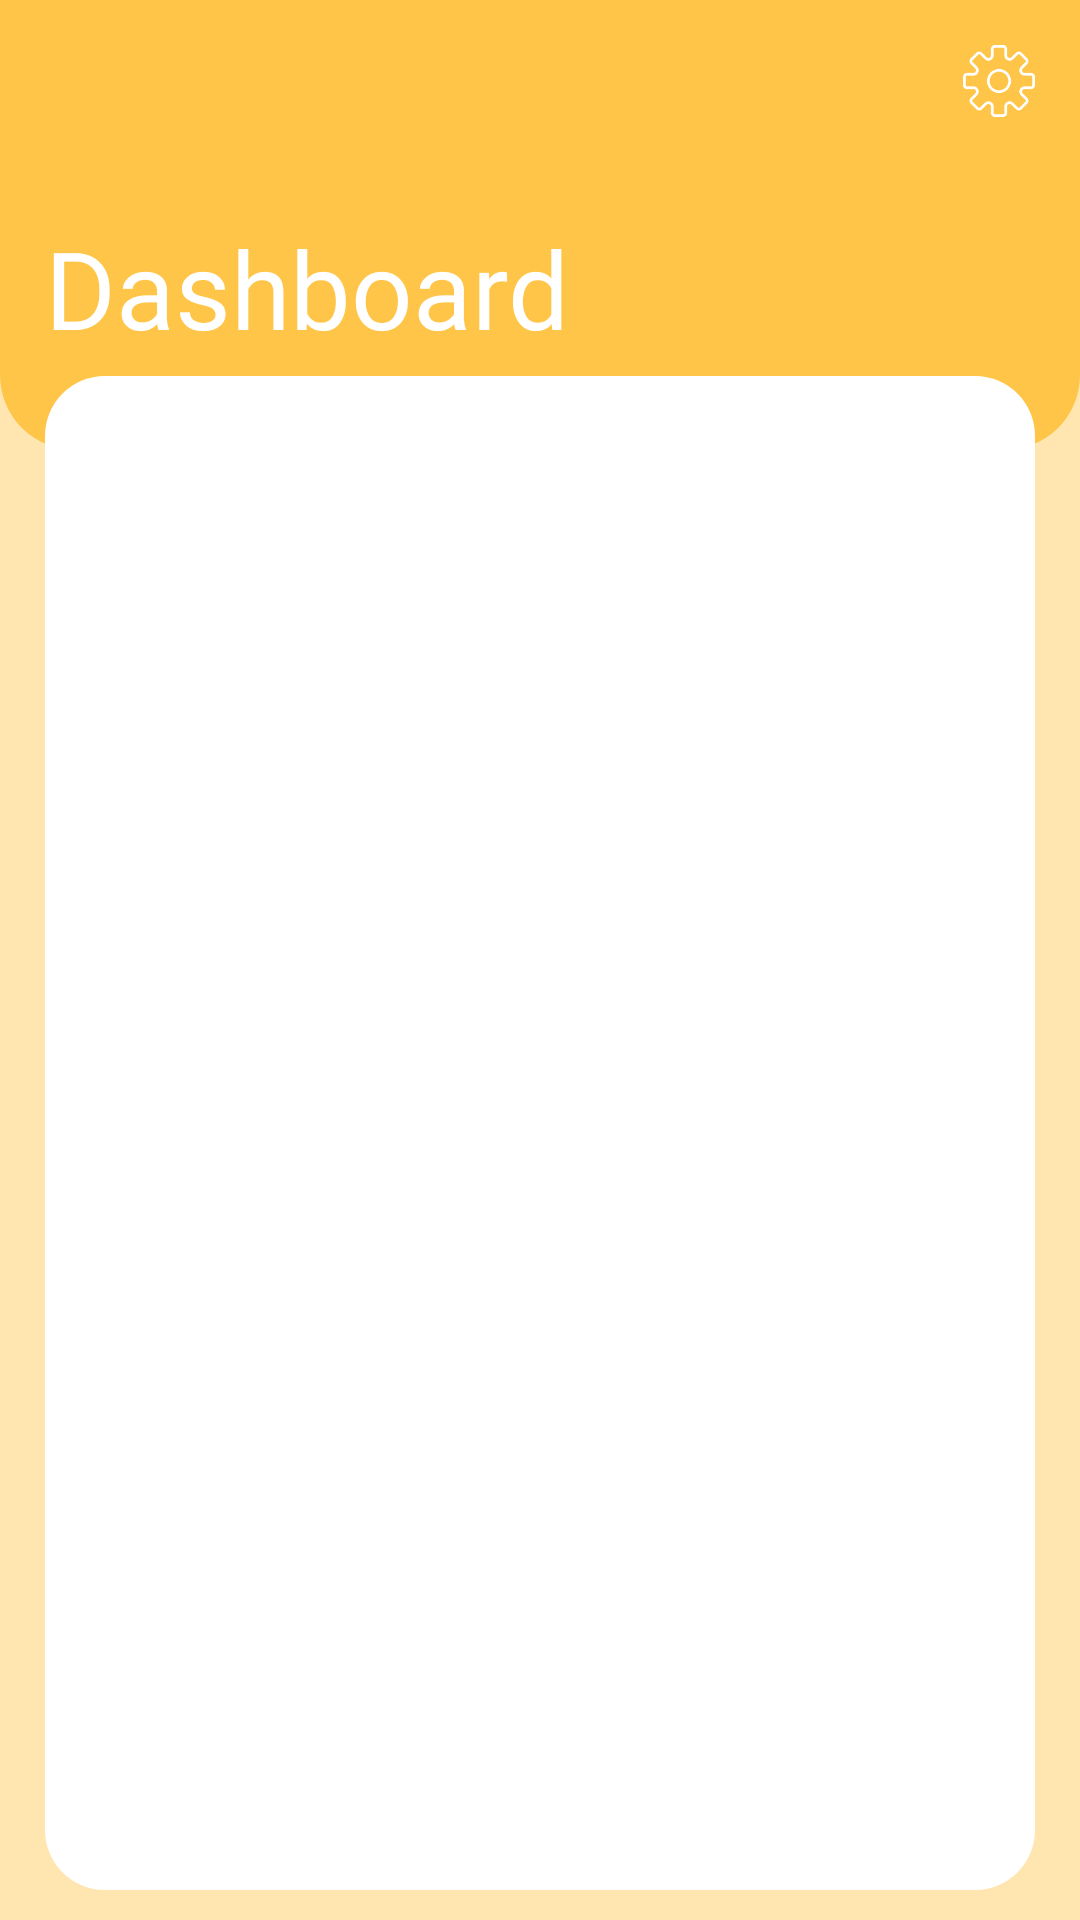

Icons on this 1080w x 1920h Android screen, each with the point to tap as (x,y):
settings: (999,81)
